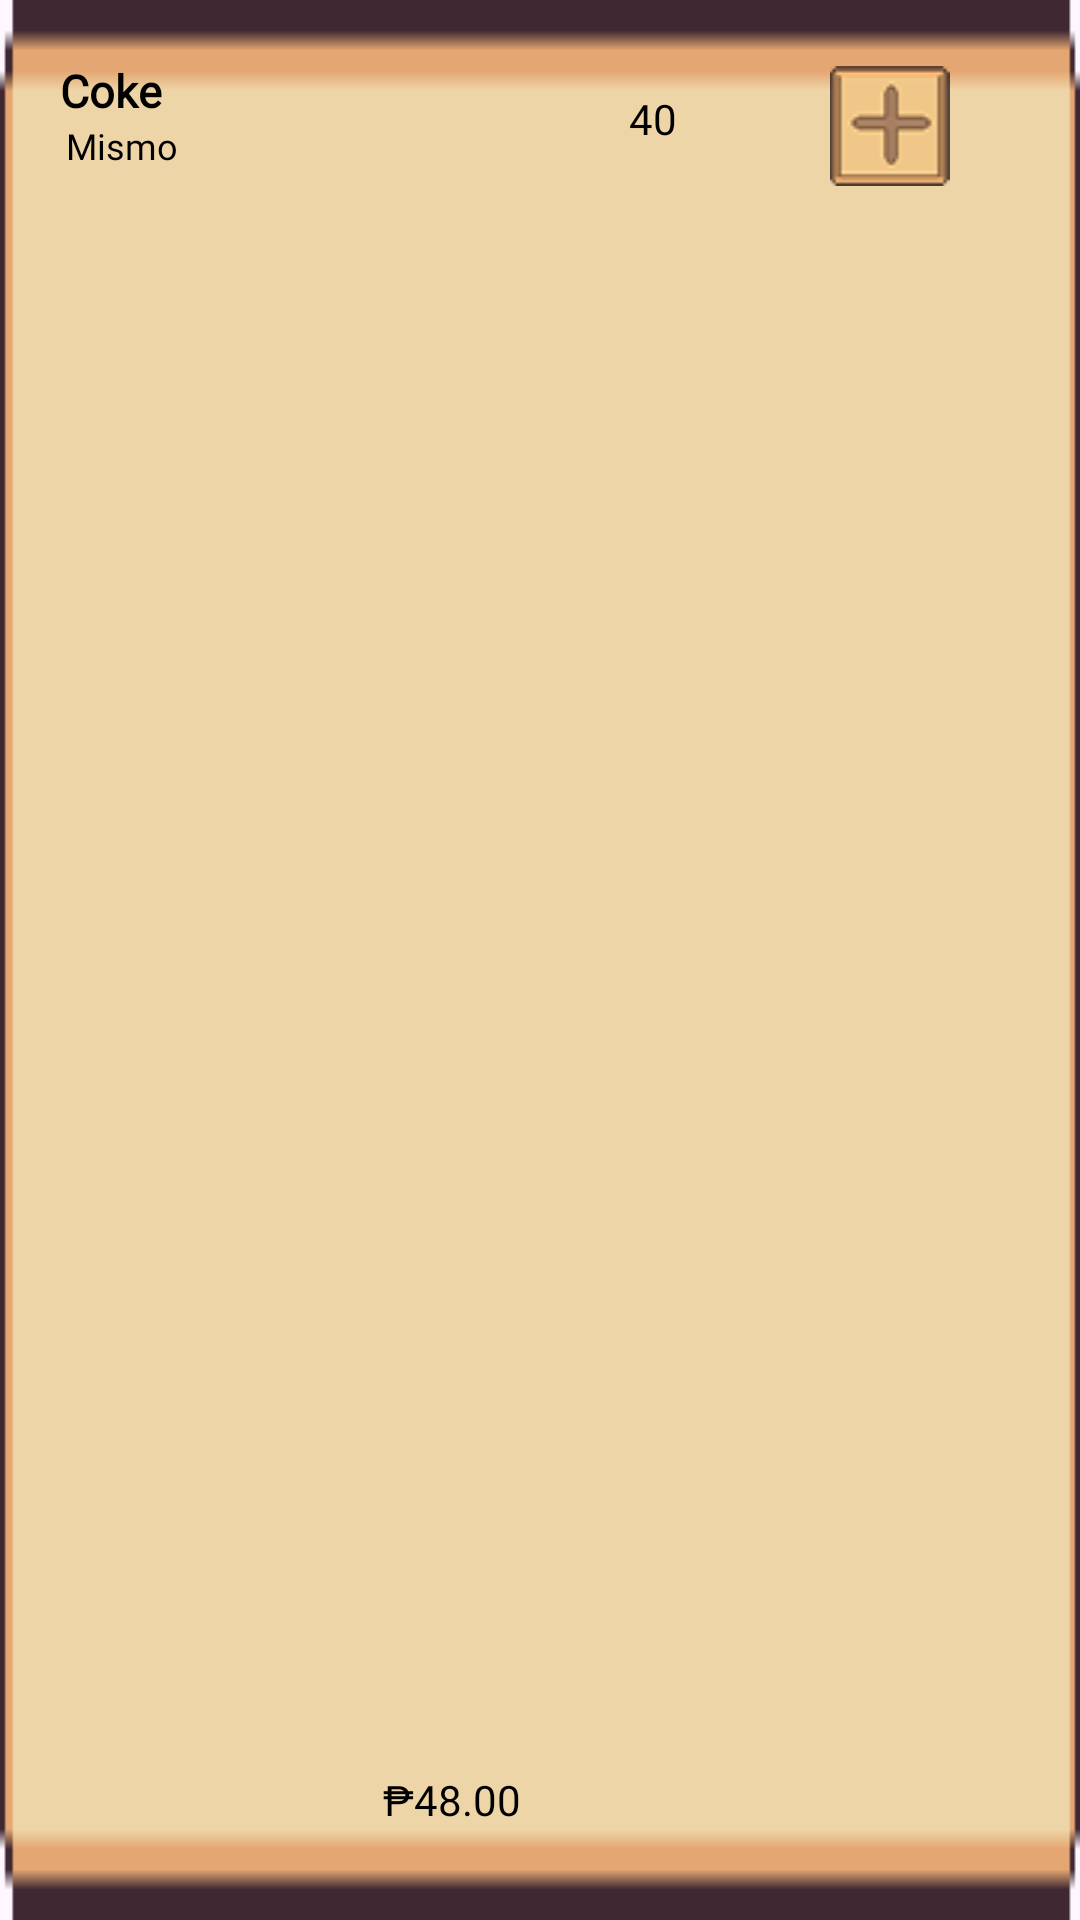

Named icons in this screenshot (1080×1920) and their bounding boxes, rect(x1, y1, x2, y2):
Add: rect(816, 60, 963, 186)
